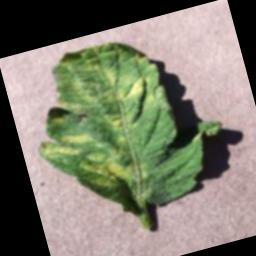Leaf_Mold: (15, 30, 195, 230)
